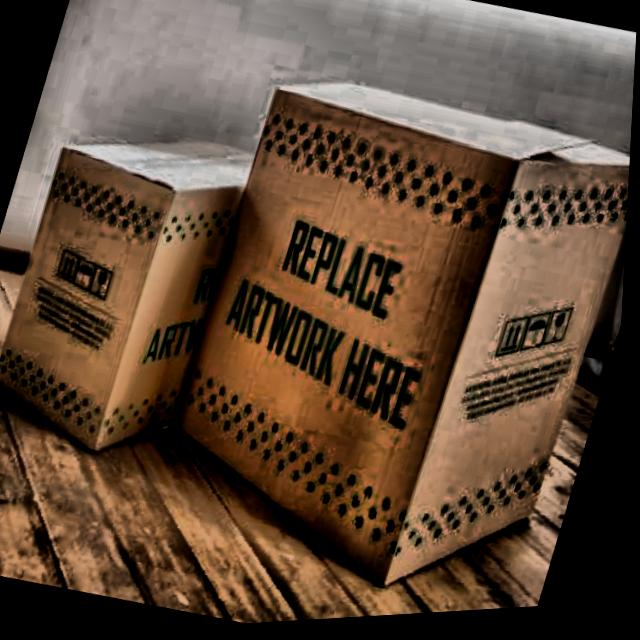Cardbox: (84, 45, 637, 635), (0, 88, 323, 502)
